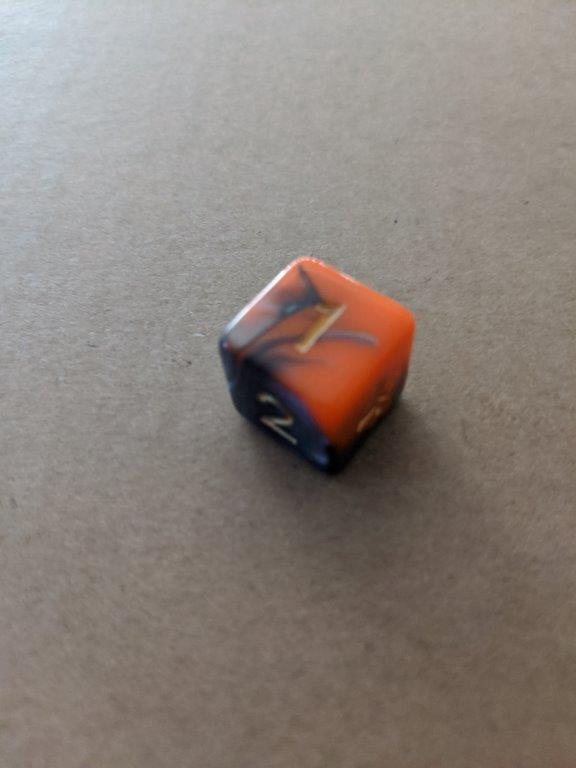d6-1: (220, 256, 416, 475)
